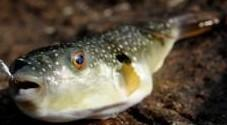fish: (10, 16, 210, 121)
